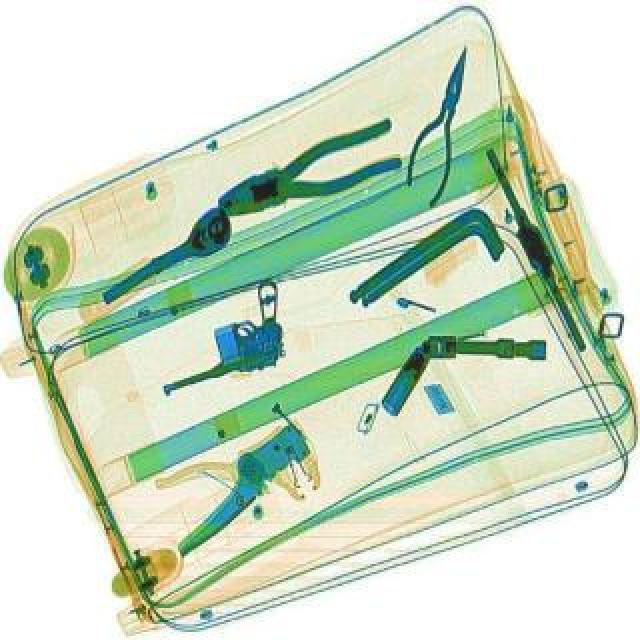gun: (134, 276, 304, 402)
wrench: (208, 114, 408, 226), (394, 40, 486, 210)
